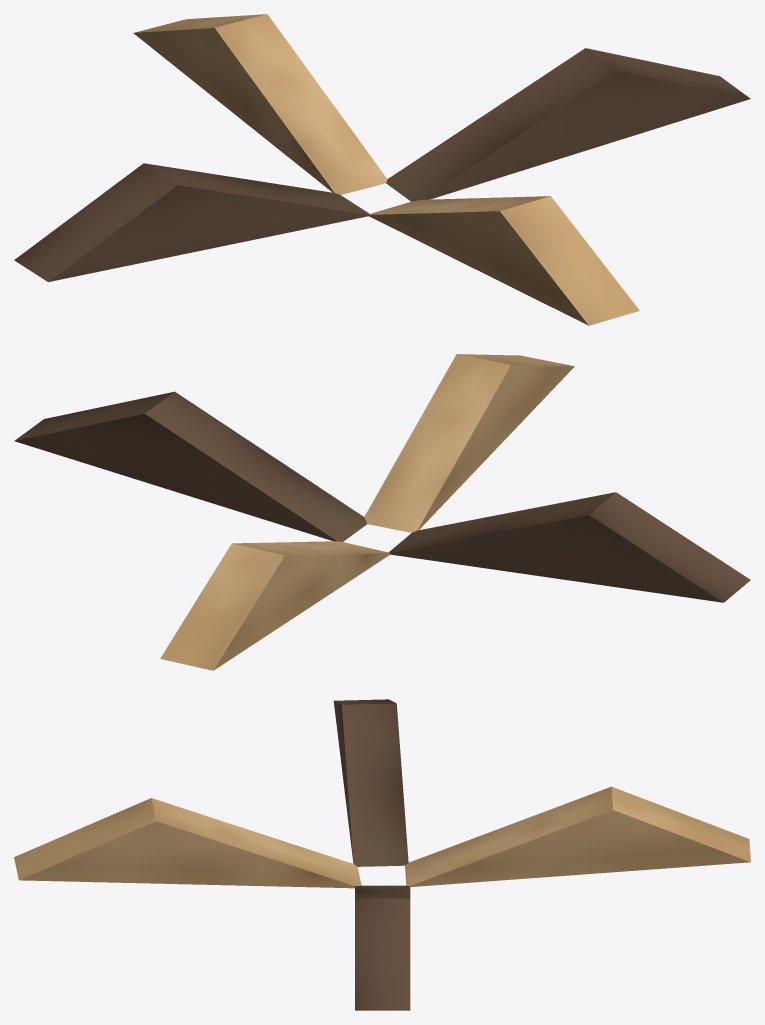
File: SM_Debris_Splinters.fbx
The picture shows the model from 3 angles, top to bottom: view 1: azimuth 30°, elevation 25°; view 2: azimuth 150°, elevation 25°; view 3: azimuth 270°, elevation 25°; orthographic projection. The views are drawn at different scales.
Parts seen in each view (by area): view 1: SM_Debris_Splinters; view 2: SM_Debris_Splinters; view 3: SM_Debris_Splinters.
Part boxes in pixels (x1=…): SM_Debris_Splinters: x1=14, y1=14, x2=750, y2=325; SM_Debris_Splinters: x1=14, y1=354, x2=750, y2=670; SM_Debris_Splinters: x1=14, y1=699, x2=750, y2=1010.
Bounding box in the file's own units: 1.6 × 0.18 × 1.6.
1 material, 1 textured.
